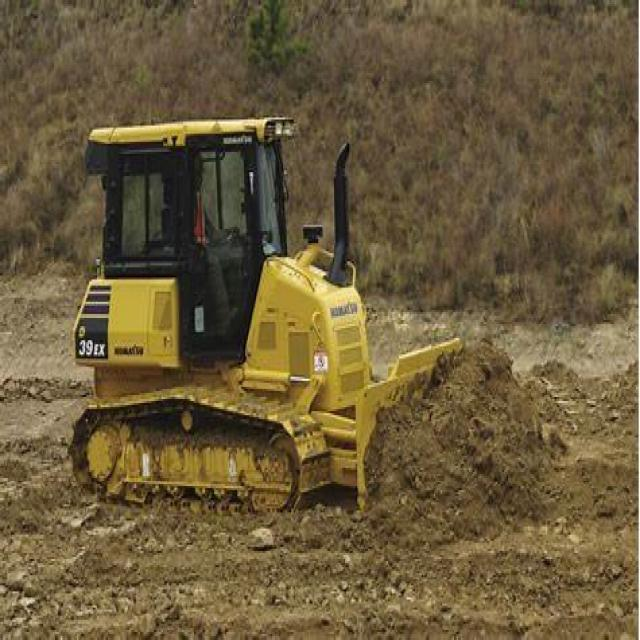Bulldozer: (73, 101, 539, 584)
